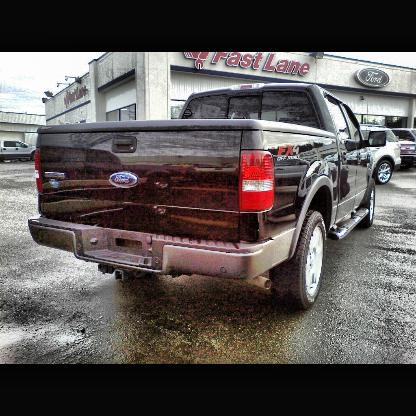Ford F-150 Regular Cab 2007: (30, 84, 373, 312)
